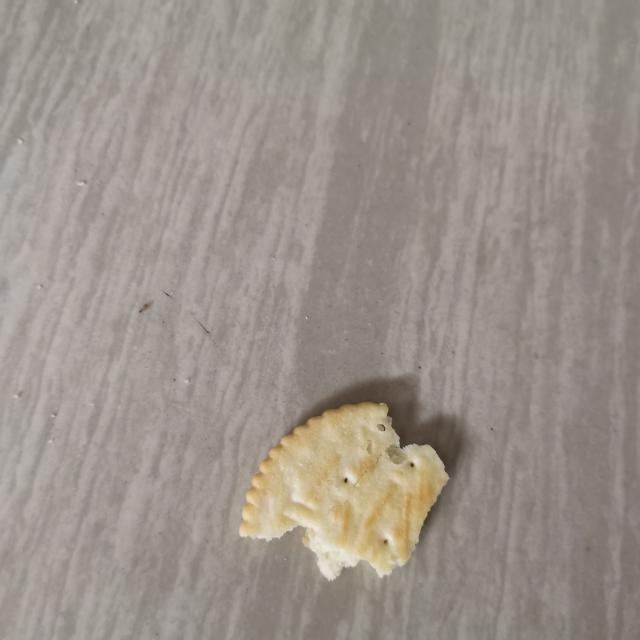Broken: (238, 401, 450, 582)
